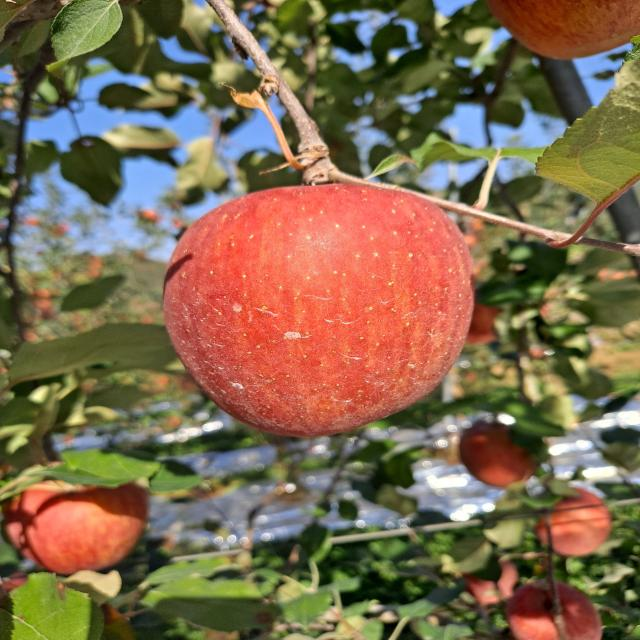fresh: (157, 177, 488, 443)
